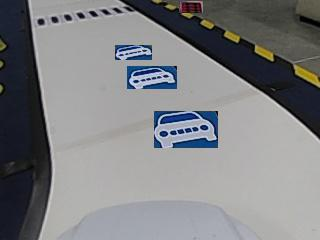crosswalk: (35, 3, 134, 26)
